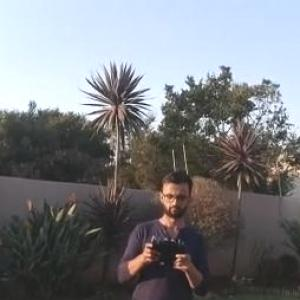follow: (109, 157, 219, 299)
